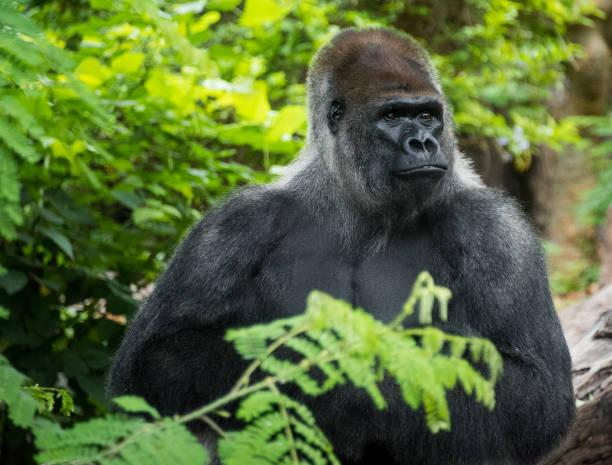gorille_Autres: (109, 30, 612, 373)
